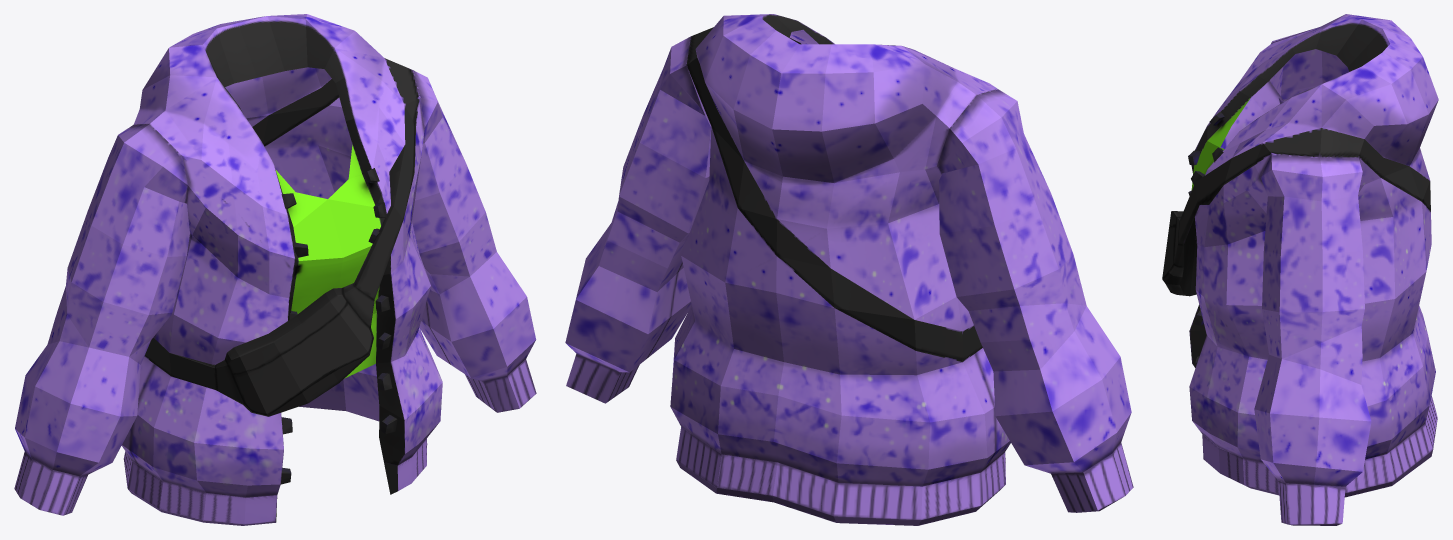
Rendered from f_cw_trendy_jacket_upper_body.glb.
3 views of the same model, side by side, from view 1: azimuth 30°, elevation 25°; view 2: azimuth 150°, elevation 25°; view 3: azimuth 270°, elevation 25° (orthographic). The views are drawn at different scales.
Parts seen in each view (by area): view 1: female_sporty_jacket; view 2: female_sporty_jacket; view 3: female_sporty_jacket.
Boxes of the visible parts, left/top/right/bottom form: female_sporty_jacket: left=14, top=14, right=536, bottom=525; female_sporty_jacket: left=565, top=14, right=1133, bottom=525; female_sporty_jacket: left=1162, top=14, right=1438, bottom=525.
Size of what is drawn, in the model's own units: 1.98 by 1.58 by 0.9901.
1 material, 1 textured.
